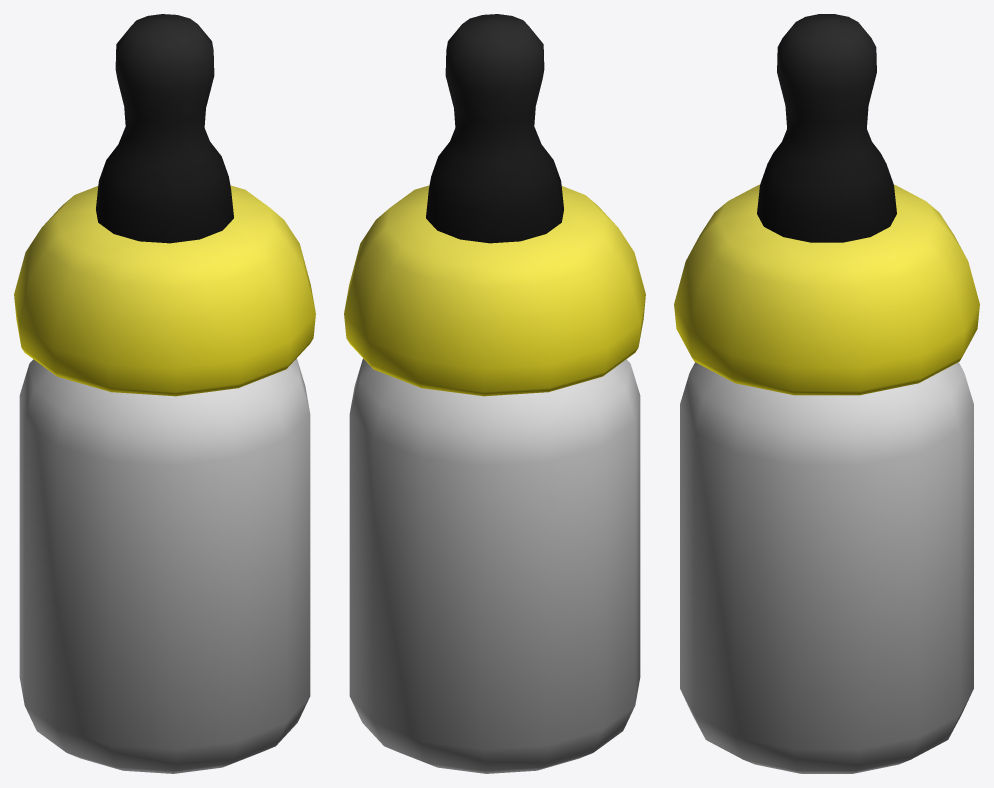
The model's file is Baby Bottle.glb.
3 renders of one model, left to right at view 1: azimuth 30°, elevation 25°; view 2: azimuth 150°, elevation 25°; view 3: azimuth 270°, elevation 25°, orthographic.
Parts seen in each view (by area): view 1: Baby_Bottle; view 2: Baby_Bottle; view 3: Baby_Bottle.
Boxes of the visible parts, x1,y1,x2,y2 form: Baby_Bottle: [14, 14, 315, 773]; Baby_Bottle: [344, 14, 645, 773]; Baby_Bottle: [674, 14, 979, 773].
Size of the model in its own units: 0.6082 by 1.58 by 0.6238.
Materials: 1 (1 with a texture image).
